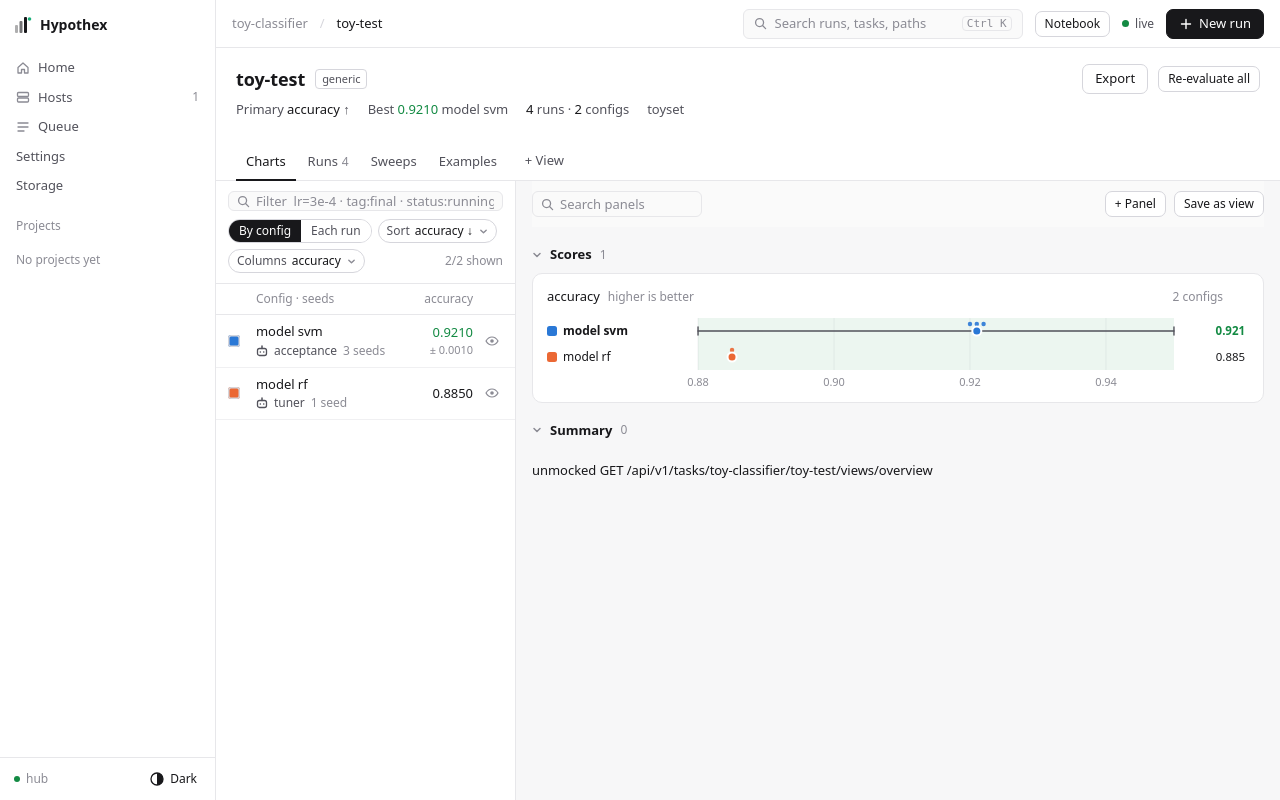
Test: New run on a task route › opens from the best config and links all launched runs with 0 queued
Click the button "New run": (1215, 24) [1166,8,1264,38]
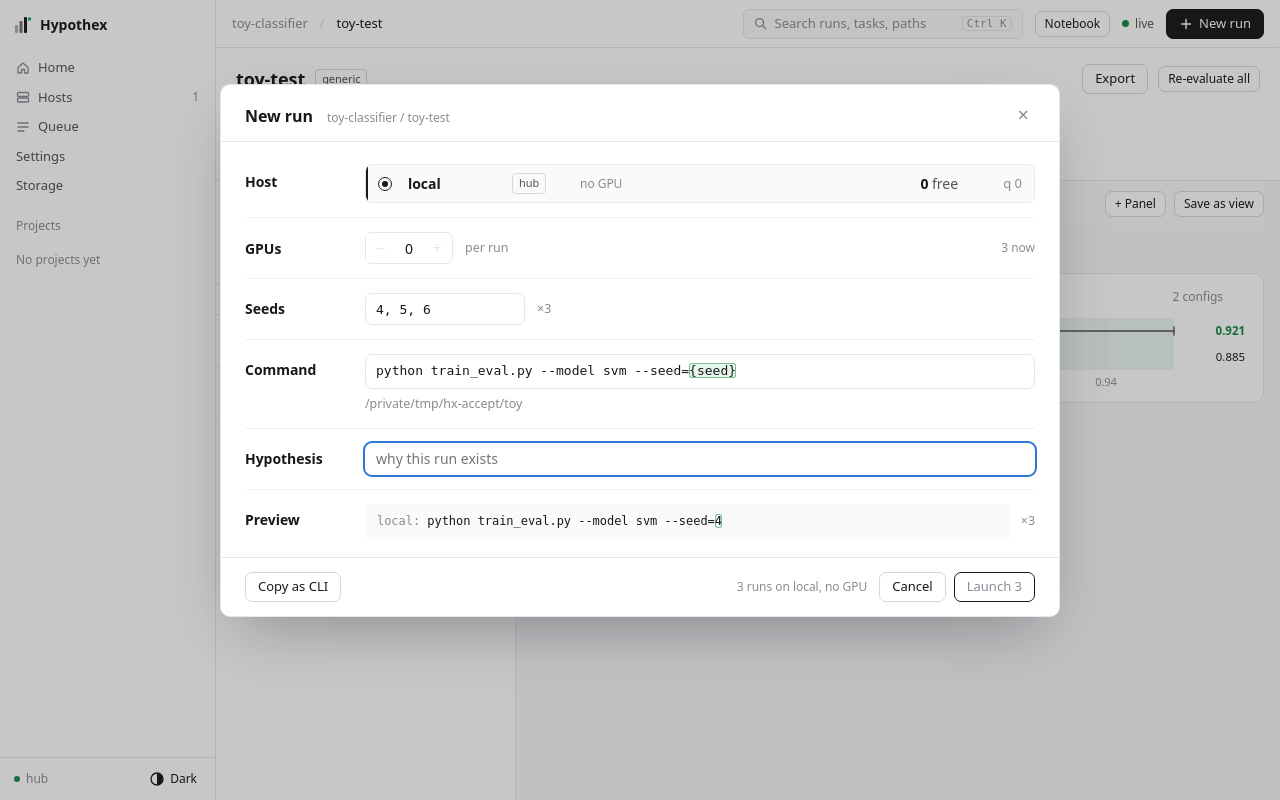
Result: the radio button labelled "local" is checked at [378,176,392,190]
Result: the text box labelled "Command" holds "python train_eval.py --model svm --seed={seed}" at [366,355,1034,388]
Result: the field labelled "Seeds" holds "4, 5, 6" at [365,293,525,325]
In the field labelled "Hypothesis": (700, 458) [365,442,1035,474], type "svm holds on new seeds"
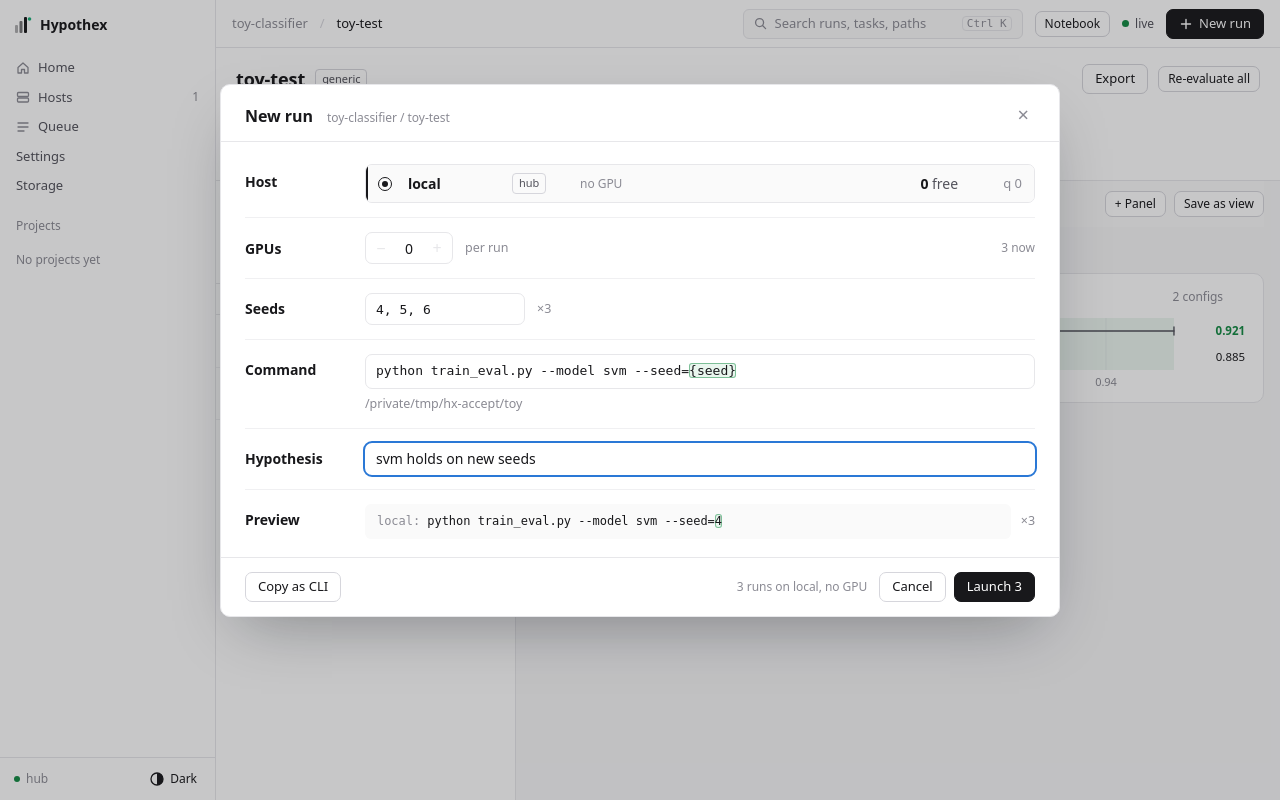
Click the button "Launch 3": (994, 587) [954,572,1035,602]
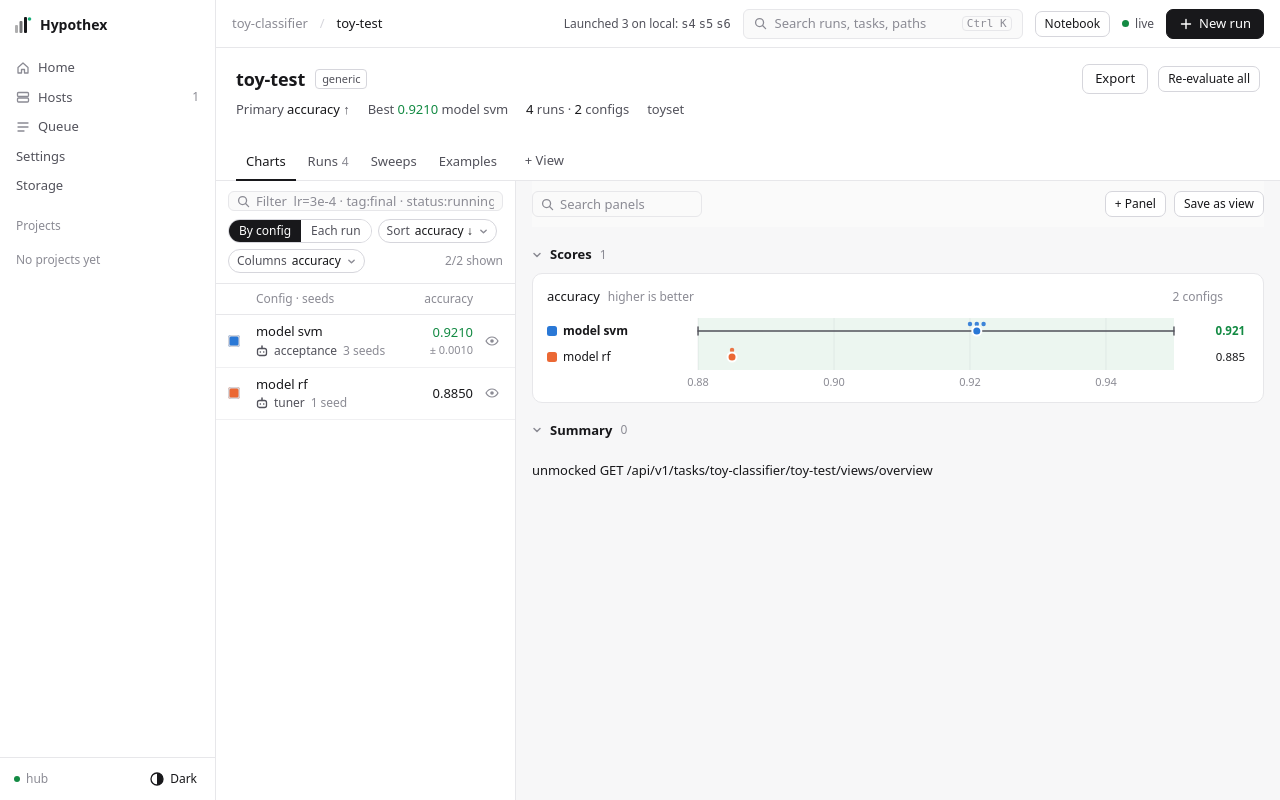
Result: the message "Launched 3 on local: s4 s5 s6" is shown at [564,14,731,32]
Result: the dialog is gone
